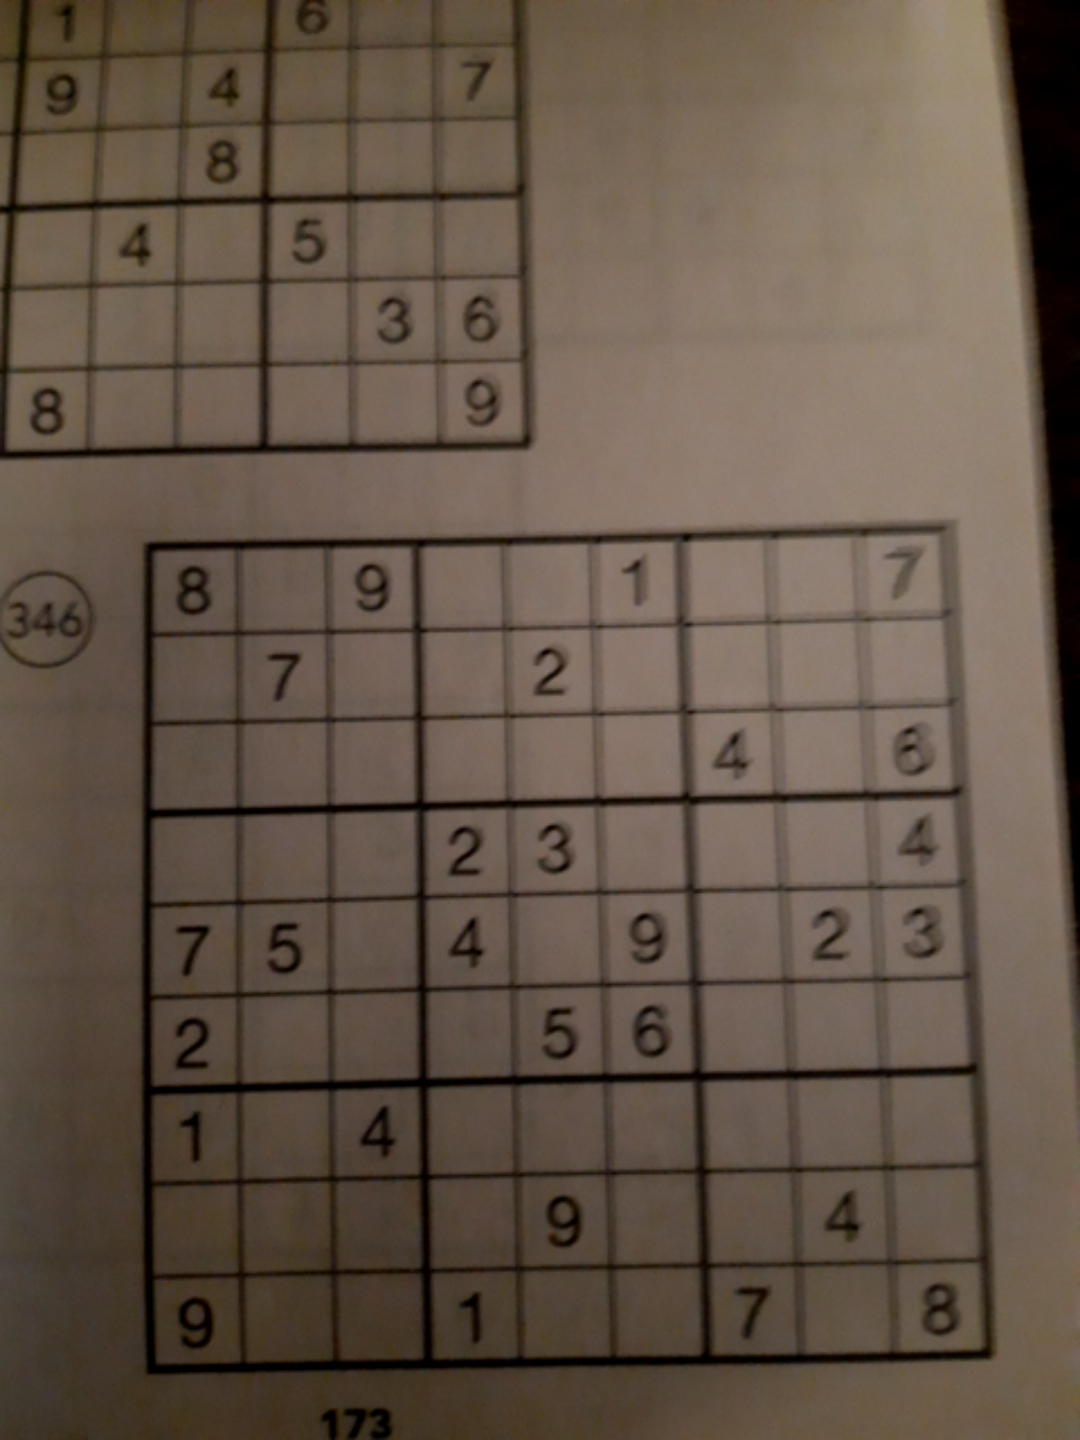sudoku: (138, 517, 996, 1371)
